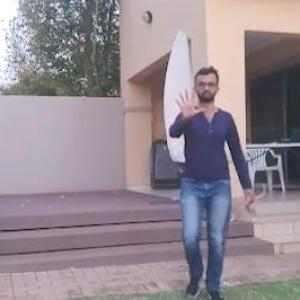follow_hand: (170, 80, 210, 125)
